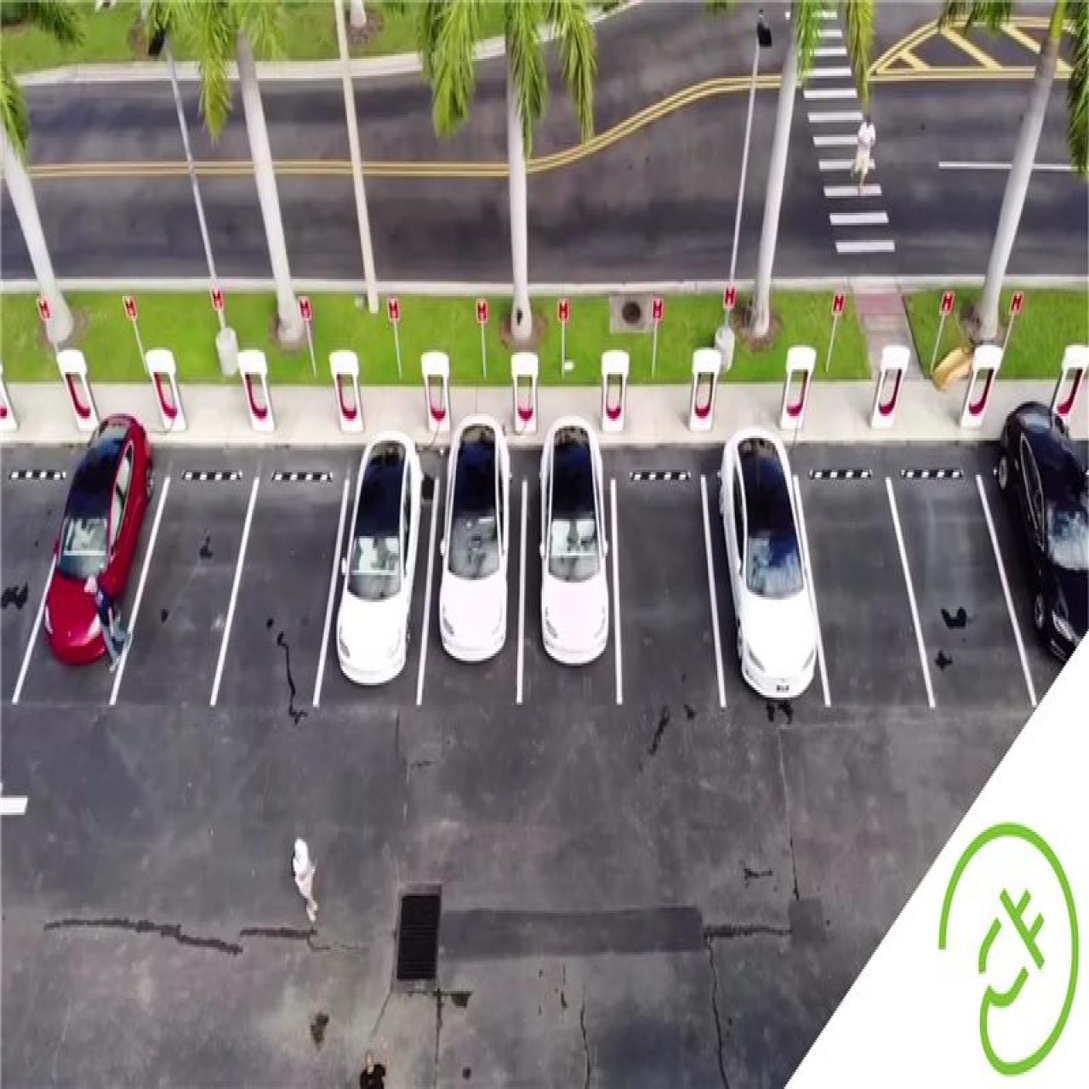cars: (318, 470, 442, 700), (45, 428, 151, 695), (1001, 447, 1089, 721), (710, 469, 800, 721), (422, 481, 527, 686), (527, 478, 619, 701)
empty: (113, 461, 259, 706), (220, 470, 342, 714), (906, 467, 1020, 714), (612, 472, 710, 710), (814, 466, 909, 709), (0, 464, 66, 689)
